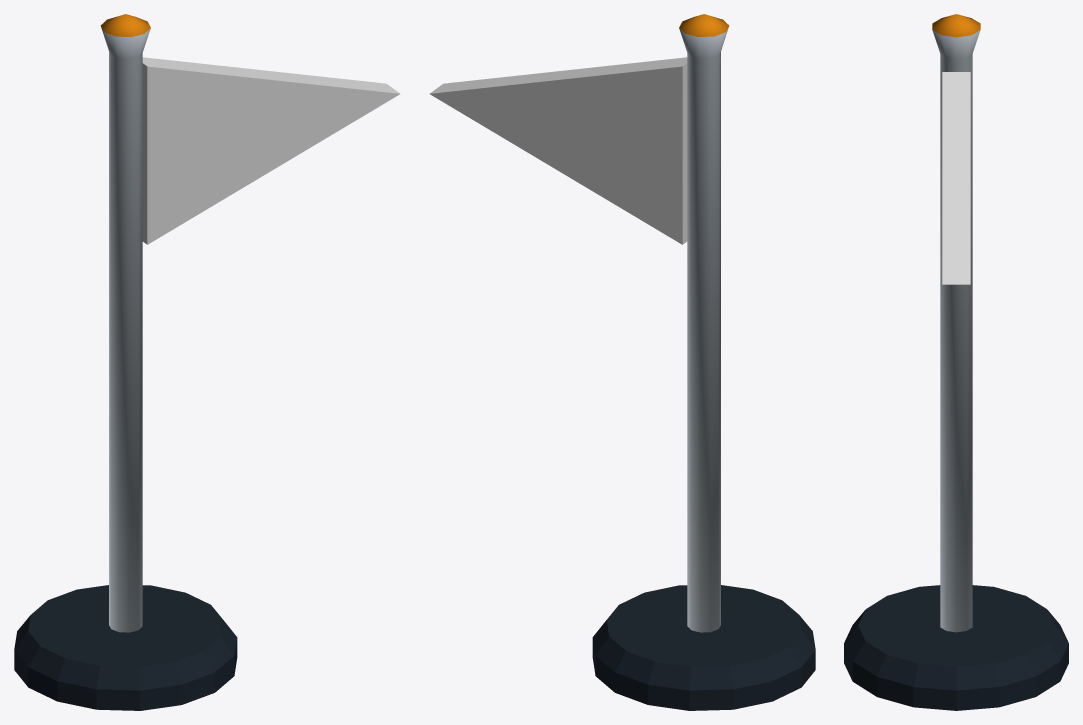
File: SM_Checkpoint.fbx
3 renders of one model, left to right at view 1: azimuth 30°, elevation 25°; view 2: azimuth 150°, elevation 25°; view 3: azimuth 270°, elevation 25°, orthographic.
Parts seen in each view (by area): view 1: SM_Checkpoint; view 2: SM_Checkpoint; view 3: SM_Checkpoint.
Part boxes in pixels (box(x1,y1,x2,y2)): SM_Checkpoint: box(14, 14, 400, 710); SM_Checkpoint: box(429, 14, 815, 710); SM_Checkpoint: box(844, 14, 1068, 710).
Bounding box in the file's own units: 1.5 × 0.8 × 2.55.
